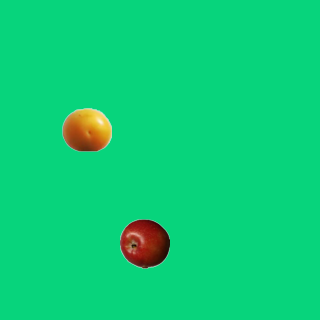Apple Braeburn: (119, 218, 169, 268)
Cherry Wax Yellow: (61, 104, 111, 154)
